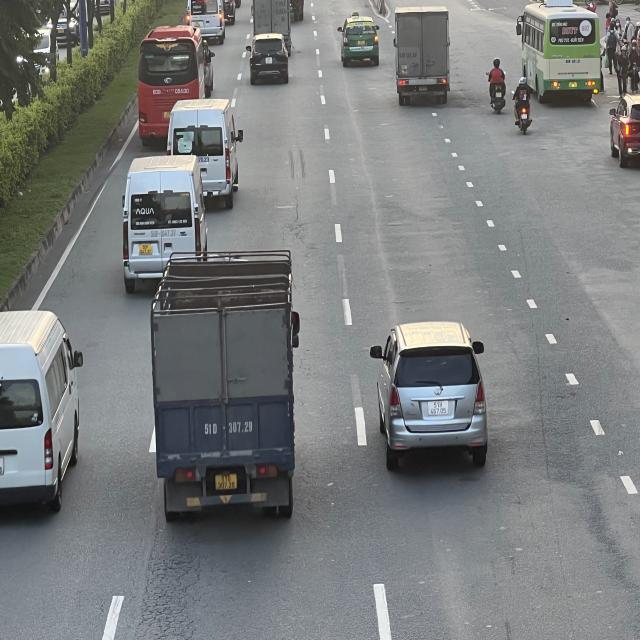car: (373, 319, 488, 470), (247, 35, 292, 86), (339, 14, 381, 66), (610, 93, 640, 163)
coach: (136, 26, 212, 142), (520, 2, 605, 99)
truck: (154, 245, 304, 519), (393, 5, 450, 104), (253, 0, 292, 45)
van: (0, 311, 81, 517), (122, 155, 206, 292), (167, 99, 243, 206), (187, 0, 226, 45)
